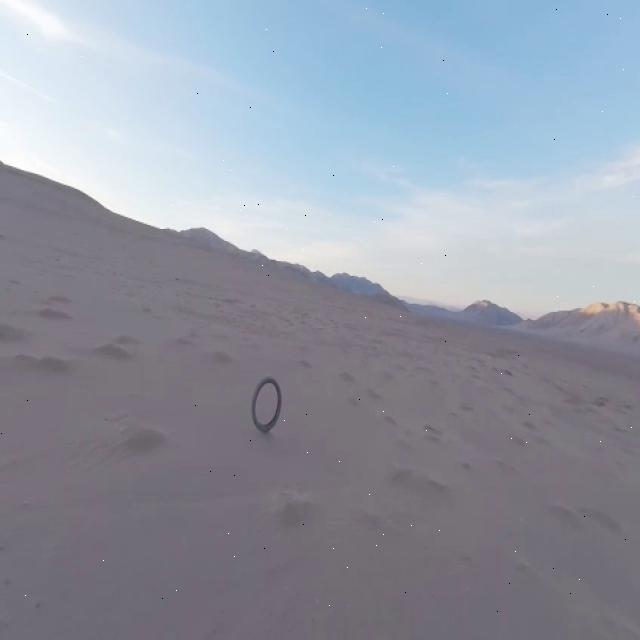Tire: (252, 376, 282, 432)
